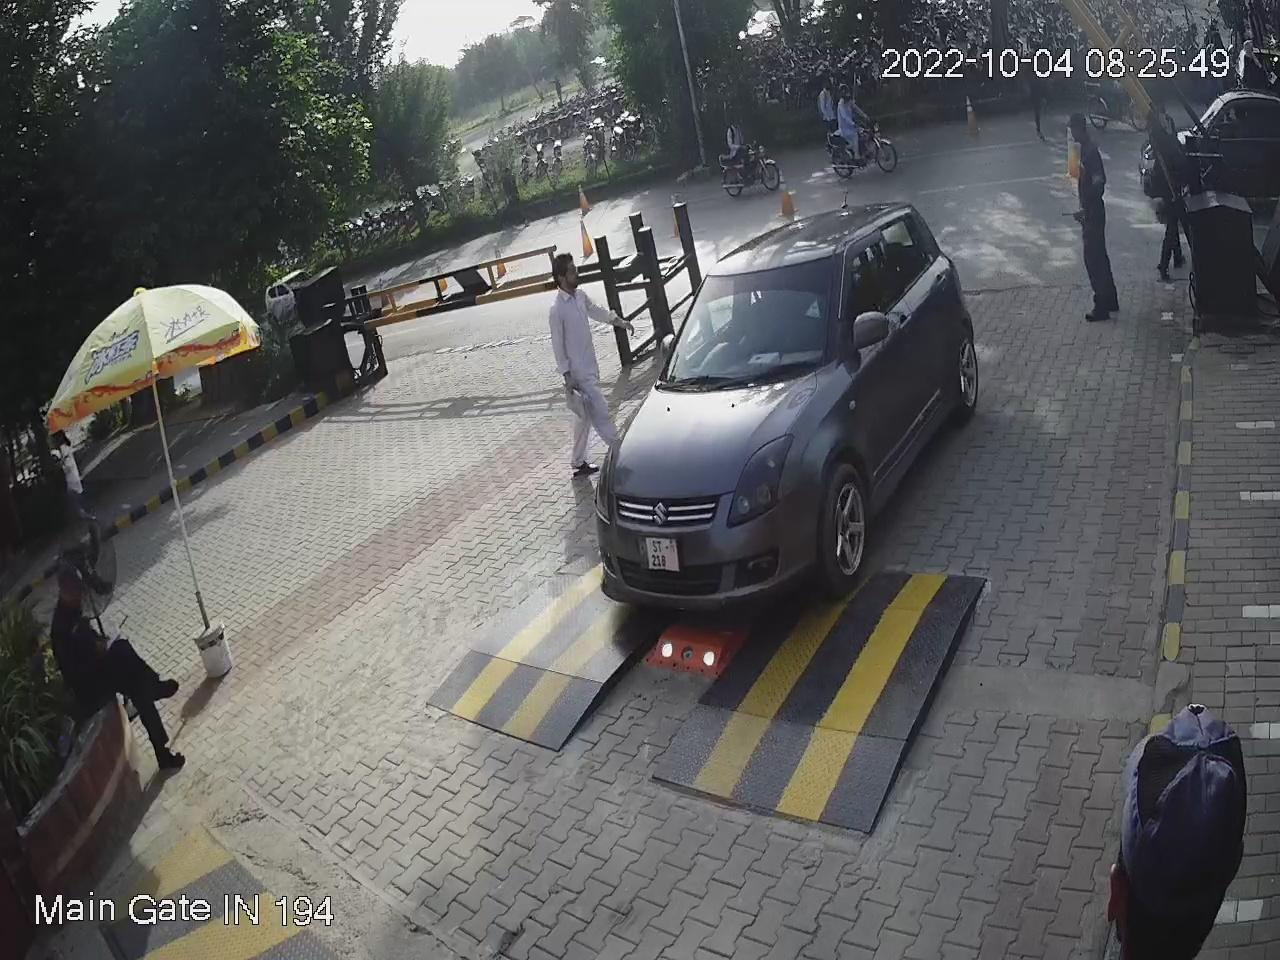windshield: (660, 247, 848, 375)
